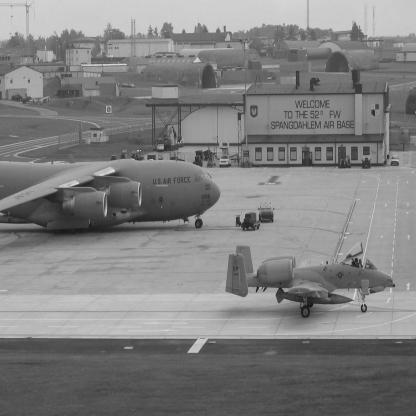A10: (226, 242, 396, 319)
C17: (1, 155, 222, 236)
